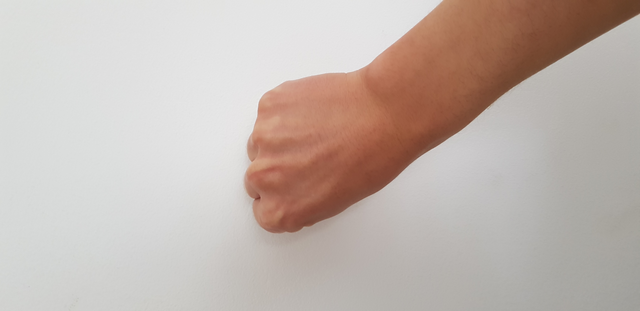Rock: (203, 60, 453, 247)
